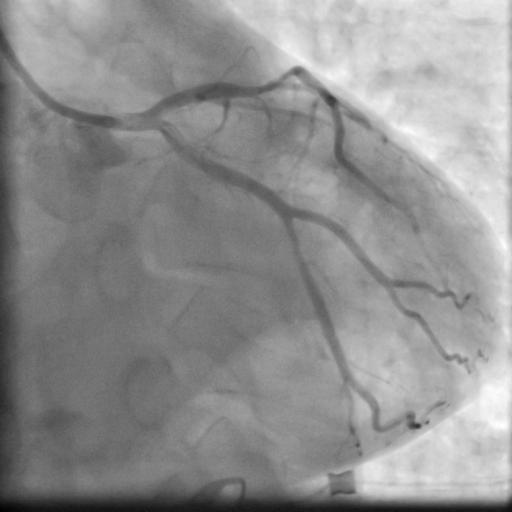Stenosis: (288, 227, 307, 276)
